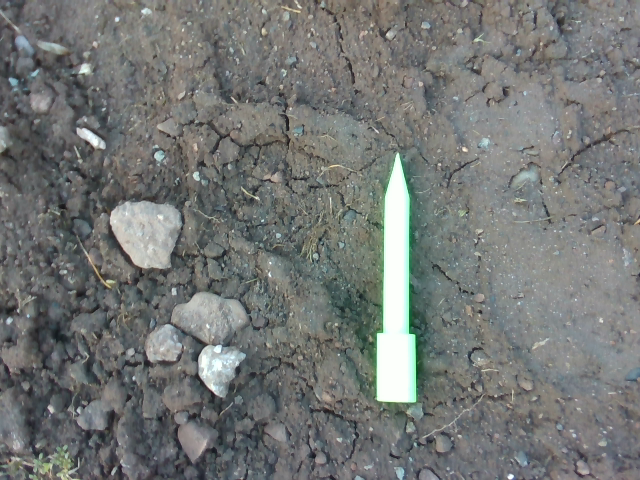Probe: (370, 149, 422, 412)
